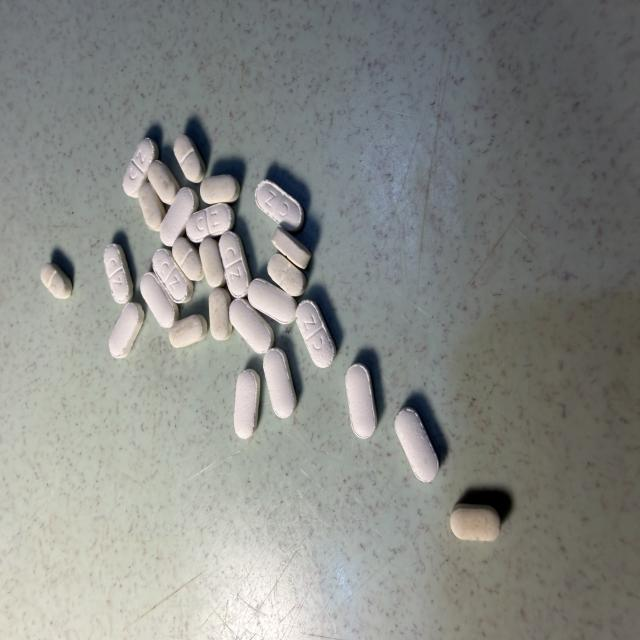pill: (395, 408, 438, 482), (296, 301, 335, 367), (255, 180, 304, 231), (229, 298, 274, 353), (345, 364, 376, 438), (264, 348, 296, 418), (160, 188, 198, 246), (153, 248, 193, 303), (248, 279, 296, 324), (219, 231, 251, 298), (141, 272, 178, 328), (123, 138, 158, 197), (109, 303, 144, 358), (186, 203, 234, 243), (450, 504, 500, 541), (234, 369, 260, 438), (104, 244, 133, 304), (272, 227, 311, 268), (268, 254, 306, 296), (174, 135, 206, 182), (148, 160, 179, 205), (172, 237, 203, 281), (139, 182, 165, 231), (199, 238, 225, 286), (209, 287, 232, 340), (169, 315, 206, 347), (200, 175, 240, 204), (41, 264, 72, 298)
